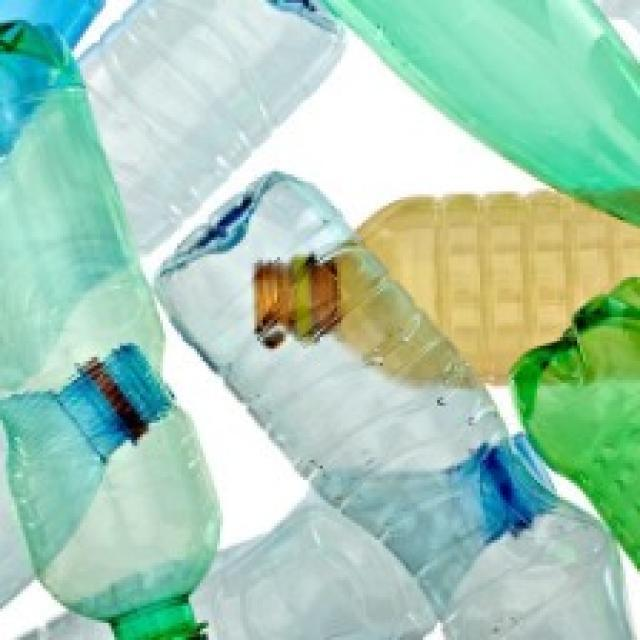heap: (130, 194, 640, 640)
plastic_bottle: (344, 1, 640, 224), (239, 220, 640, 379), (1, 355, 185, 624), (73, 1, 335, 184), (520, 313, 640, 545)
